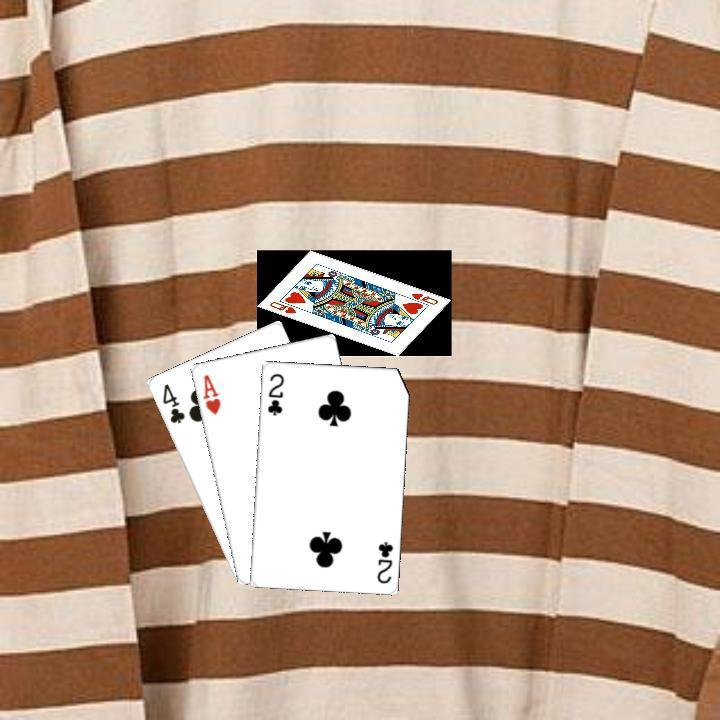2: (263, 369, 285, 417), (372, 537, 394, 585)
4: (158, 379, 187, 426)
A: (198, 370, 222, 416)
